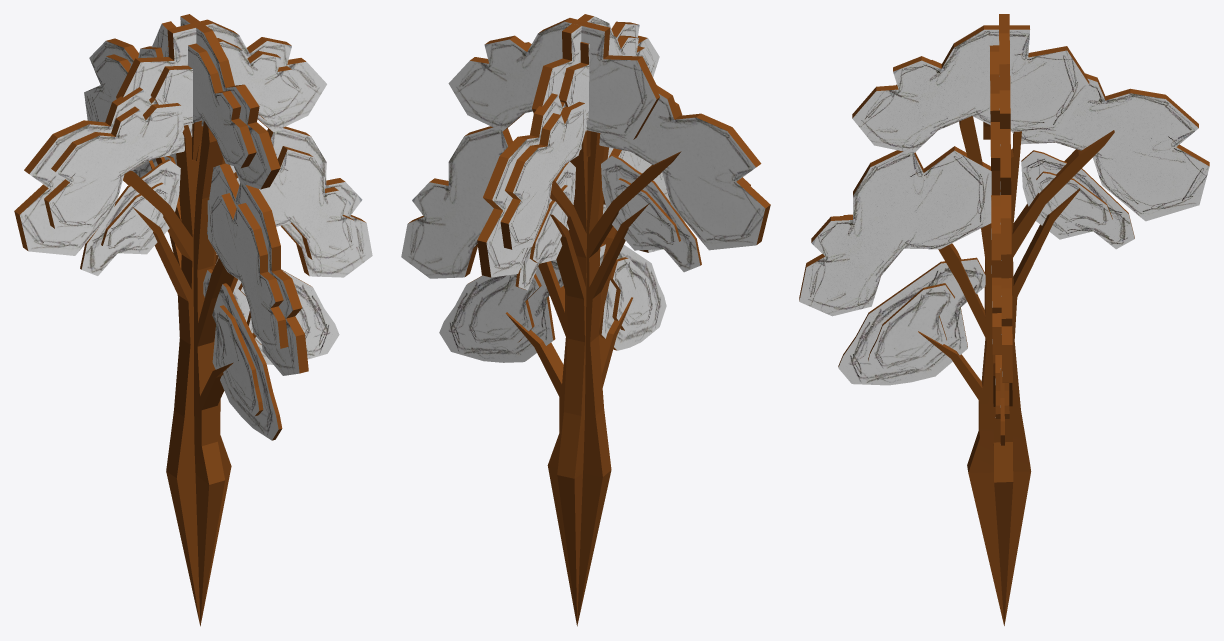
Rendered from tree3.fbx.
The picture shows the model from 3 angles, left to right: view 1: azimuth 30°, elevation 25°; view 2: azimuth 150°, elevation 25°; view 3: azimuth 270°, elevation 25°; orthographic projection.
Parts seen in each view (by area): view 1: tree3_LOD00; view 2: tree3_LOD00; view 3: tree3_LOD00.
Part boxes in pixels (x1,y1,x2,y2): tree3_LOD00: (14, 14, 372, 626); tree3_LOD00: (401, 14, 770, 626); tree3_LOD00: (799, 14, 1209, 625).
Size of what is drawn, in the model's own units: 419 by 674 by 419.
